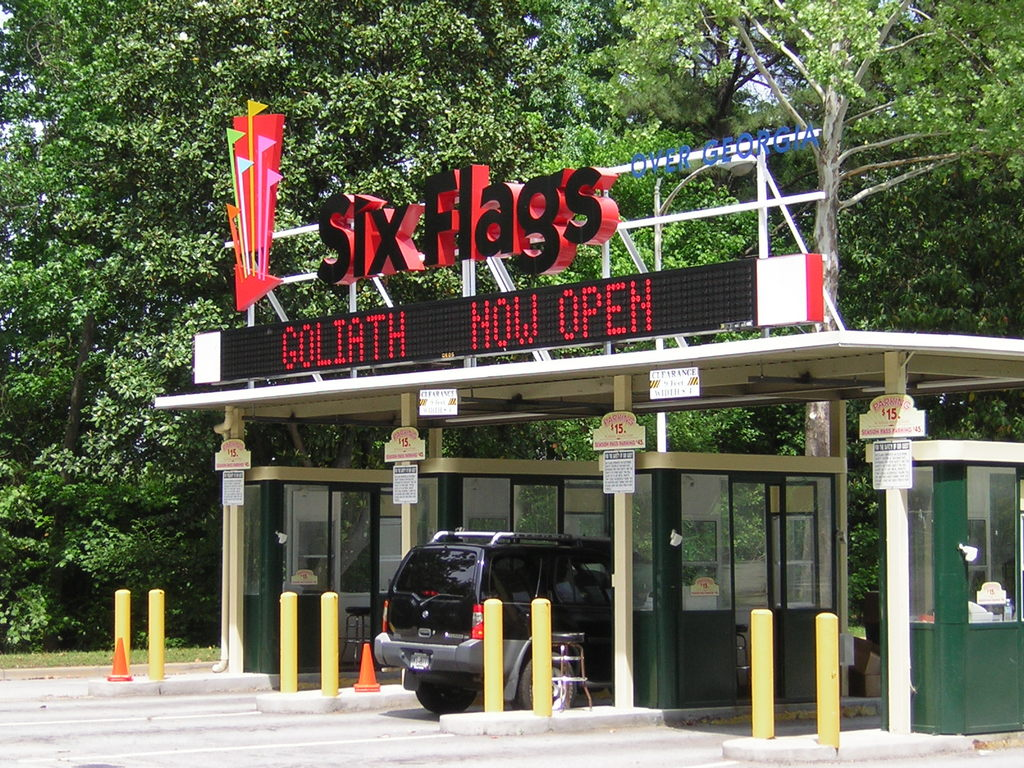Car: (369, 523, 614, 712)
